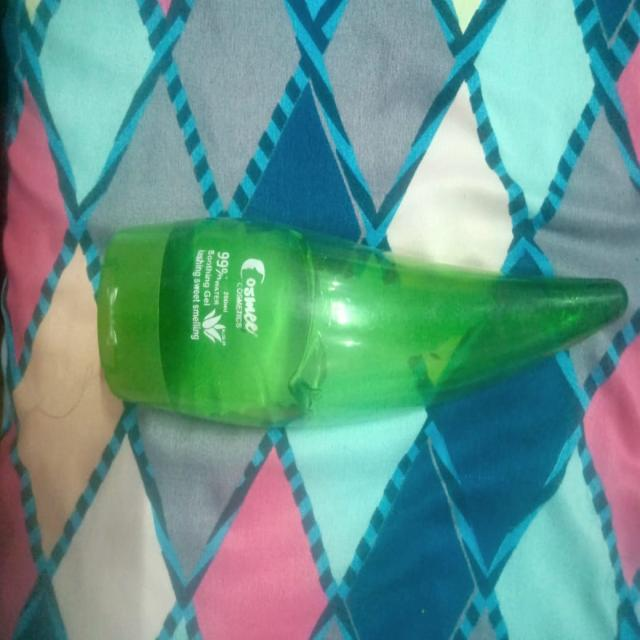gel: (95, 220, 628, 421)
